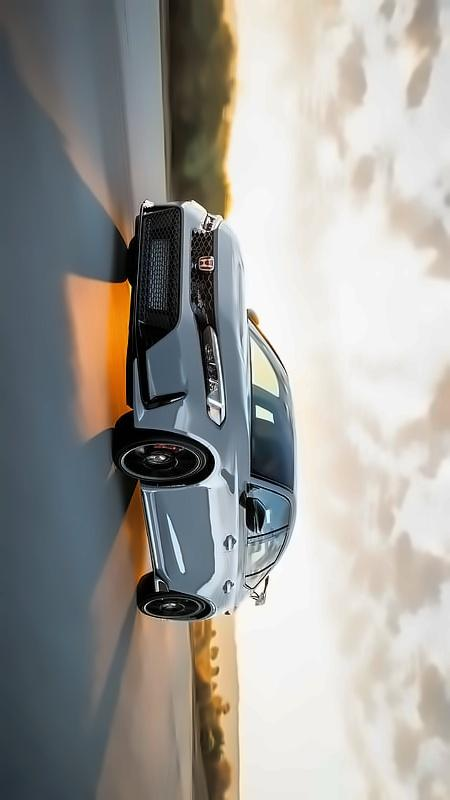Car hood: (210, 218, 261, 438)
Fender - -F-L-: (145, 421, 261, 490)
Fender - -R-L-: (156, 588, 244, 617)
Front bumper: (130, 194, 202, 450)
Headlight - -L-: (198, 321, 230, 430)
Headlight - -R-: (198, 207, 228, 240)
Passenger-s door - -F-L-: (149, 491, 297, 552)
Passenger-s door - -R-L-: (155, 545, 284, 598)
Rear light - -L-: (222, 603, 241, 624)
Side bumper - -L-: (137, 476, 170, 599)
Side mirror - -L-: (238, 488, 273, 536)
Side mirror - -R-: (240, 303, 266, 334)
